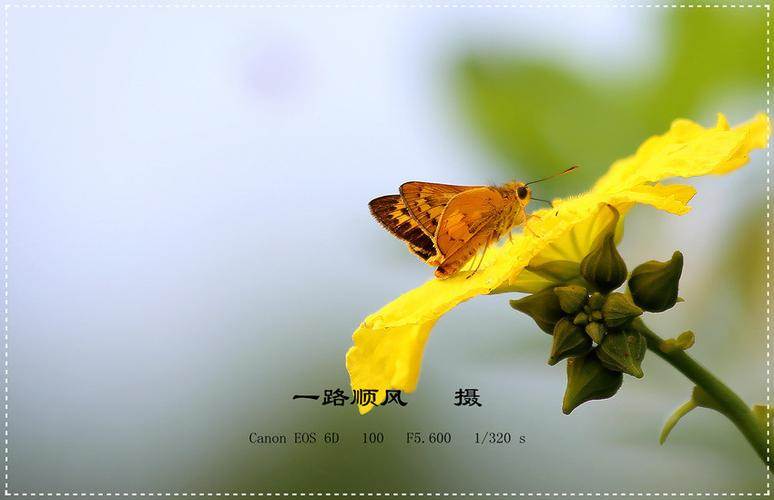Hesperiidae: (364, 152, 582, 283)
